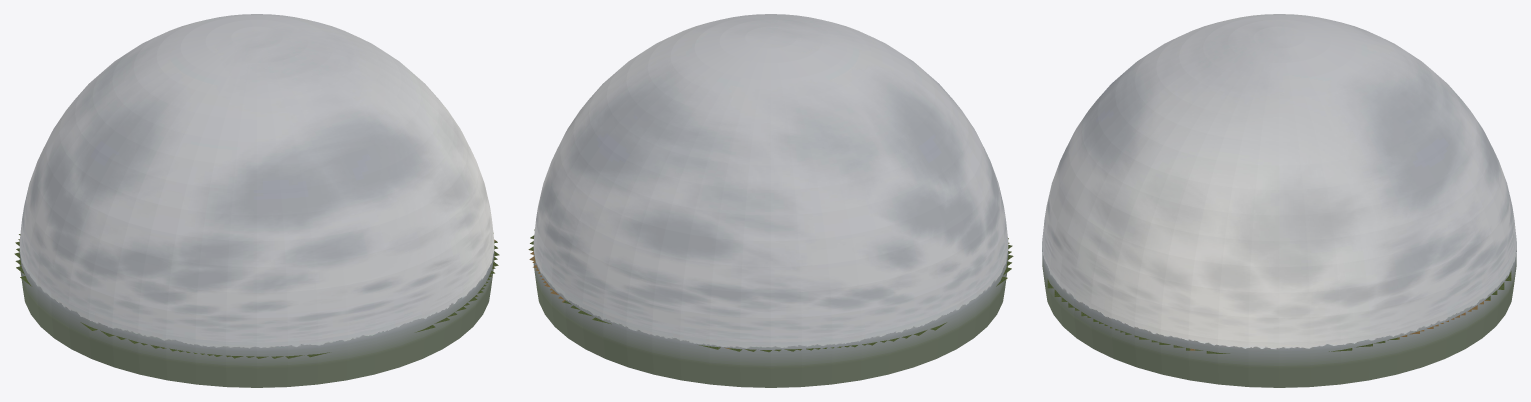
The model's file is fields_to_netherfield.gltf.
3 renders of one model, left to right at view 1: azimuth 30°, elevation 25°; view 2: azimuth 150°, elevation 25°; view 3: azimuth 270°, elevation 25°, orthographic.
Visible parts, largest first — view 1: SkyDome, far.land; view 2: SkyDome, far.land; view 3: SkyDome, far.land.
Part boxes in pixels (<box>): SkyDome: <box>19,14,494,387</box>; far.land: <box>14,233,499,358</box>; SkyDome: <box>533,14,1008,387</box>; far.land: <box>528,229,1013,352</box>; SkyDome: <box>1042,14,1516,387</box>; far.land: <box>1047,271,1511,353</box>.
Bounding box in the file's own units: 248 × 146 × 248.
21 materials, 21 textured.
